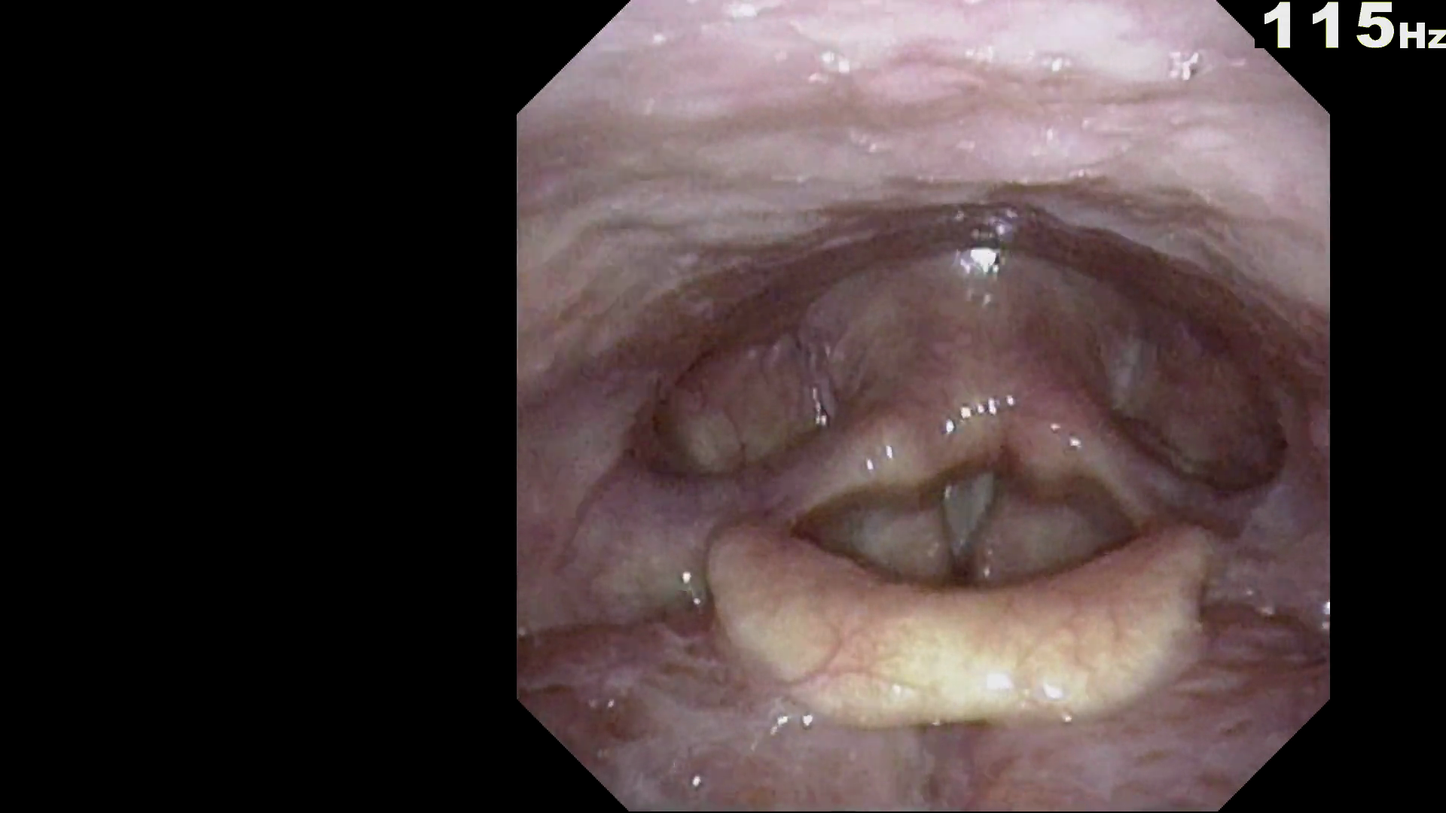epiglottis: (681, 508, 1268, 699)
trachea: (923, 447, 1032, 570)
